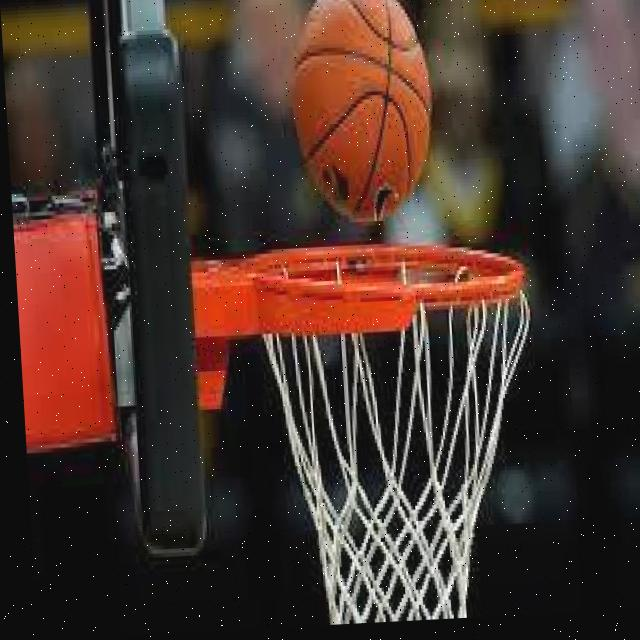Basketball: (292, 0, 440, 229)
